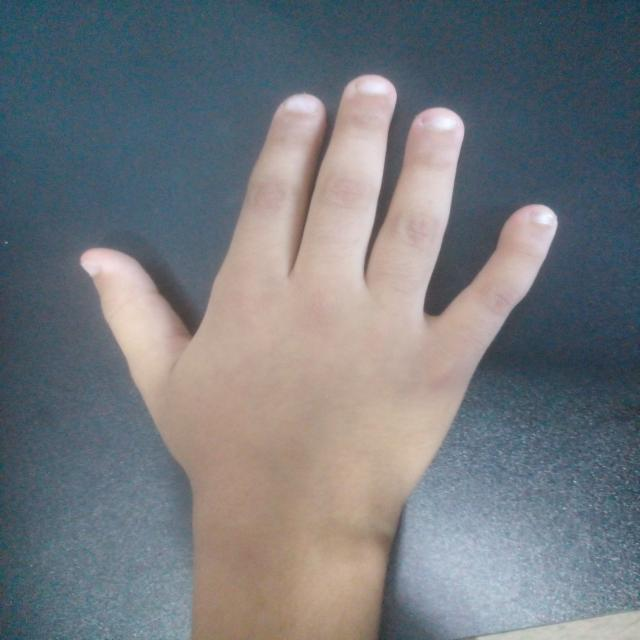Open Hand: (80, 72, 558, 515)
